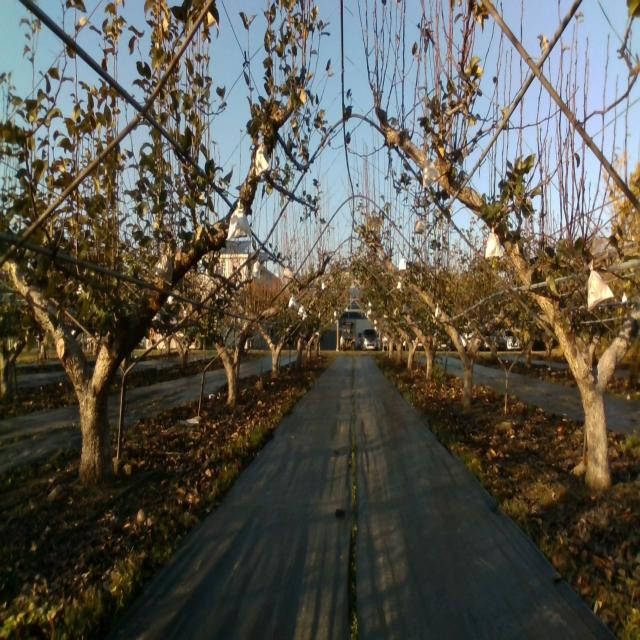pearbags: (587, 257, 614, 312), (226, 201, 252, 241), (152, 252, 174, 286), (484, 227, 504, 259), (422, 158, 440, 188), (255, 140, 269, 177)
